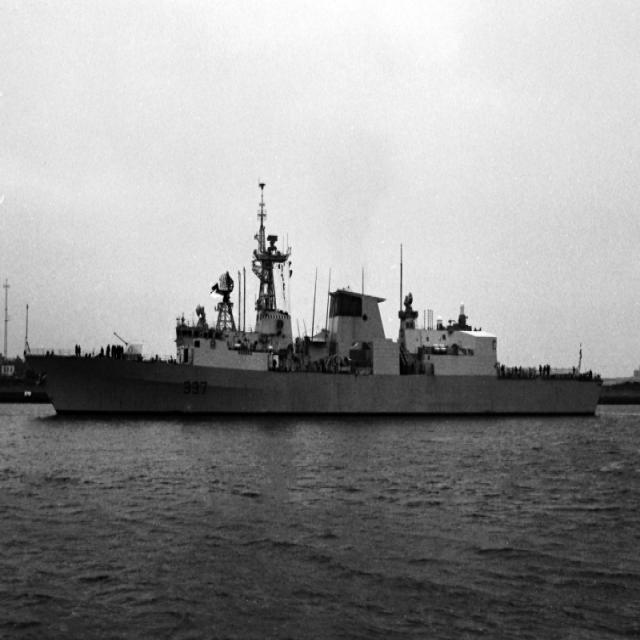Fragata: (21, 179, 607, 428)
